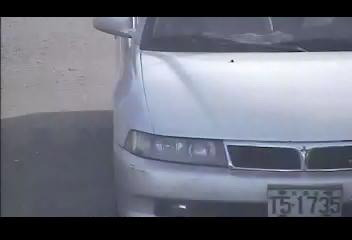plate: (266, 187, 344, 219)
